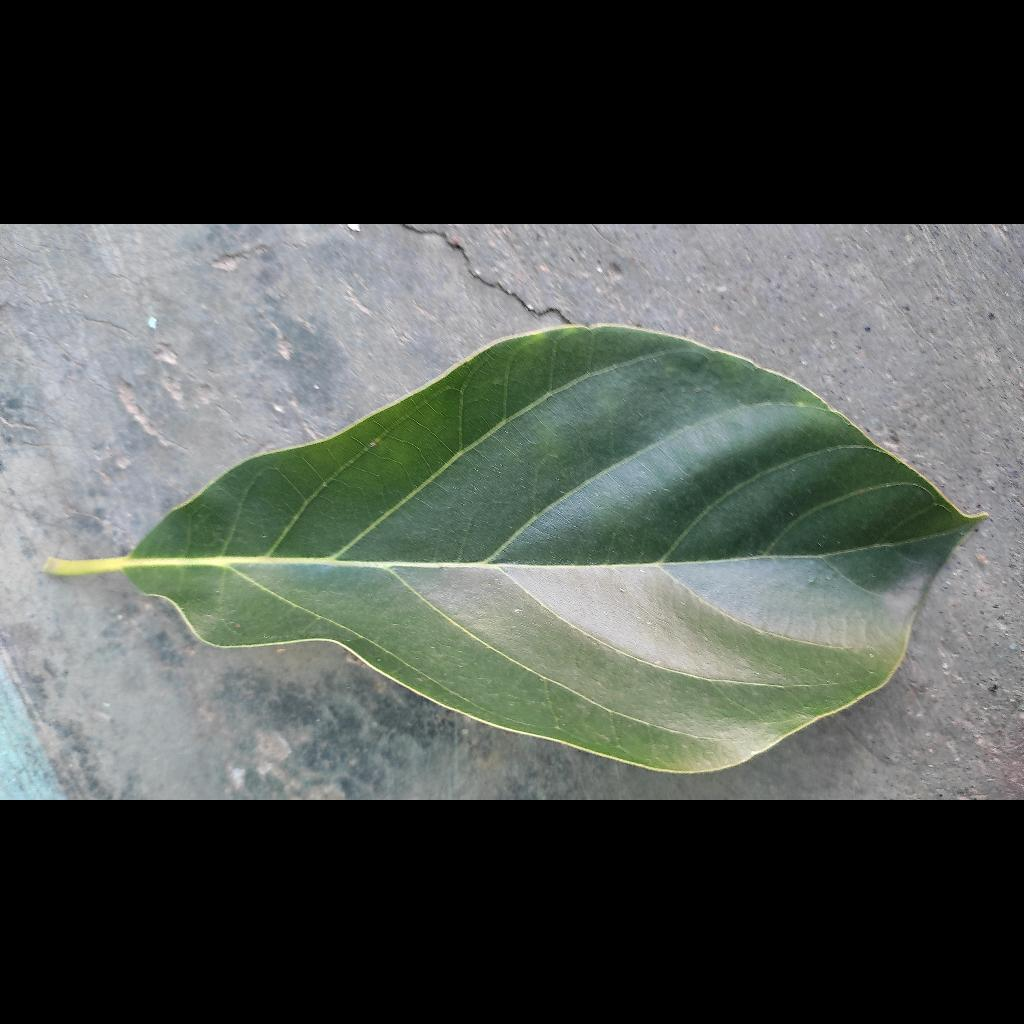Healthy: (47, 325, 983, 772)
